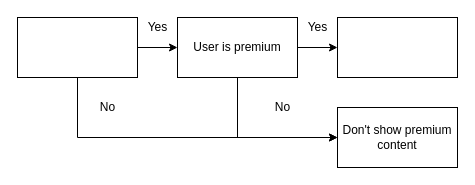
Some shapes in this 475 by 185 pixel diagram are drawn without their labels. The shapes that lost their labels are listed below. From the top down, each one's centre as x and y in pixels, then its label:
At point (77, 47): "User is logged in".
At point (397, 47): "Show premium content".
